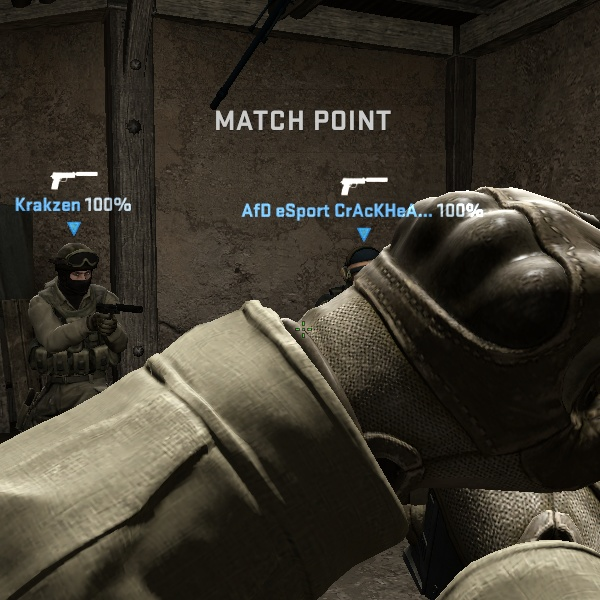ct_body: (8, 239, 144, 401)
ct_head: (42, 238, 108, 303)
